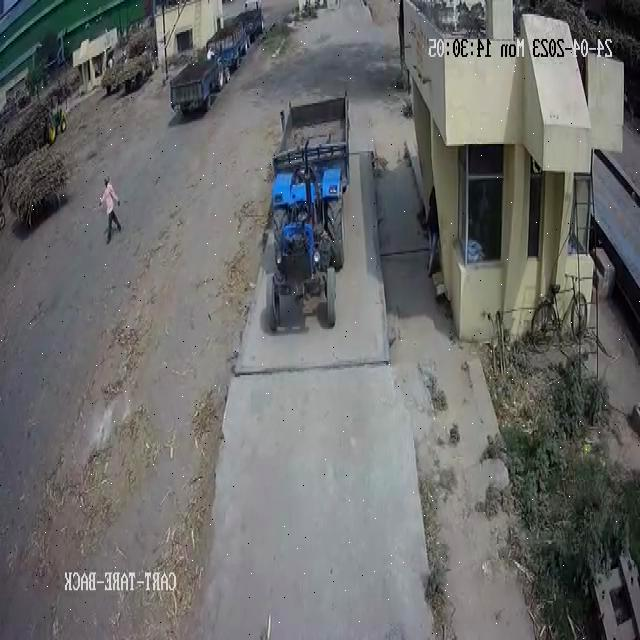Tratores - v5 YOLO V8L 2024-11-13: (262, 165, 344, 346)
